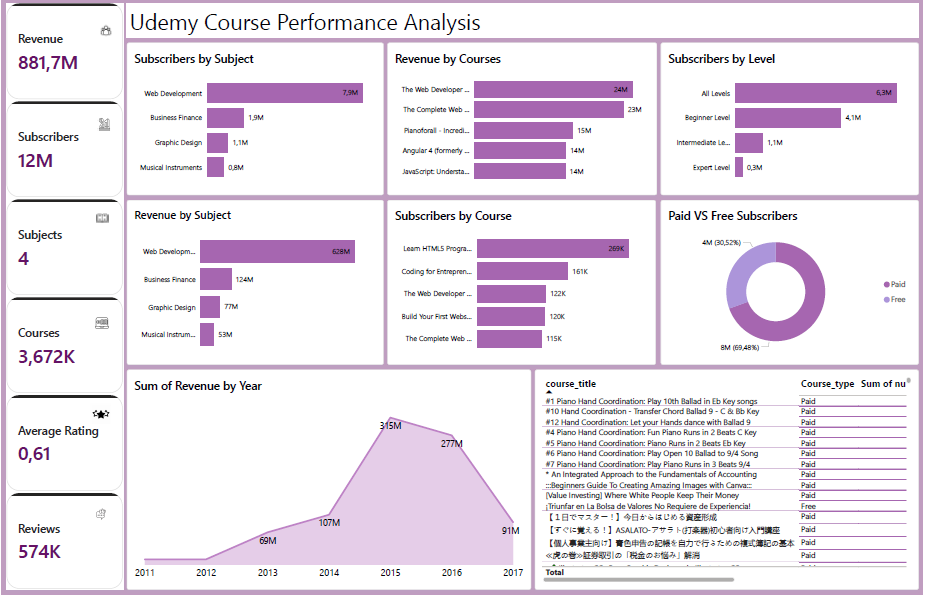

What the dashboard file says about the page in this screenshot:
{"tool":"powerbi","page":{"name":"Page 1","canvas":[1580,1020],"ordinal":0},"visuals":[{"type":"cardVisual","fields":{"Data":["Sum(Combined_Data.Revenue)","Sum(Combined_Data.num_subscribers)","Count(Combined_Data.subject)","CountNonNull(Combined_Data.course_id)","Avg(Combined_Data.Rating)","Sum(Combined_Data.num_reviews)"]},"box":[8.2,6.1,199.9,1005.7],"z":0},{"type":"clusteredBarChart","title":"Subscribers by Subject","fields":{"Category":["Combined_Data.subject"],"Y":["Sum(Combined_Data.num_subscribers)"]},"box":[214.2,73.4,440.6,261.1],"z":1000},{"type":"clusteredBarChart","title":"Subscribers by Course","fields":{"Category":["Combined_Data.course_title"],"Y":["Sum(Combined_Data.num_subscribers)"]},"box":[661,342.7,461,283.6],"z":2000},{"type":"barChart","title":" Revenue by Subject","fields":{"Category":["Combined_Data.subject"],"Y":["Sum(Combined_Data.Revenue)"]},"box":[214.2,342.7,440.6,283.6],"z":3000},{"type":"clusteredBarChart","title":"Revenue by Courses","fields":{"Category":["Combined_Data.course_title"],"Y":["Sum(Combined_Data.Revenue)"]},"box":[661,73.4,463.1,261.1],"z":4000},{"type":"clusteredBarChart","title":"Subscribers by Level","fields":{"Category":["Combined_Data.level"],"Y":["Sum(Combined_Data.num_subscribers)"]},"box":[1130.2,73.4,442.7,261.1],"z":5000},{"type":"donutChart","title":"Paid VS Free Subscribers","fields":{"Category":["Combined_Data.Course_type"],"Y":["Sum(Combined_Data.num_subscribers)"]},"box":[1130.2,342.7,442.7,283.6],"z":6000},{"type":"tableEx","fields":{"Values":["Combined_Data.course_title","Combined_Data.Course_type","Sum(Combined_Data.num_reviews)","Sum(Combined_Data.num_subscribers)","Avg(Combined_Data.Rating)","Sum(Combined_Data.Revenue)"]},"box":[913.9,634.4,658.9,377.4],"z":7000},{"type":"image","box":[145,687,49,45],"z":8000},{"type":"image","box":[149,537,43,36],"z":9000},{"type":"image","box":[149,359,45,30],"z":10000},{"type":"image","box":[159,29,39,45],"z":11000},{"type":"image","box":[159,194,33,37],"z":12000},{"type":"image","box":[145,863,49,38],"z":13000},{"type":"stackedAreaChart","fields":{"Category":["Combined_Data.Date.Variation.Date Hierarchy.Year"],"Y":["Sum(Combined_Data.Revenue)"]},"box":[214.2,634.4,693.6,378],"z":14000},{"type":"textbox","box":[214.2,6.1,1358.6,59.2],"z":15000}]}

Visuals, with their boxes in screenshot pixels (x1, y1, x2, y2), scaled from the page's 1580x1020 canvas onto the 925x595 screenshot:
cardVisual - Sum(Combined_Data.Revenue) x Sum(Combined_Data.num_subscribers): bbox=[5, 4, 122, 590]
"Subscribers by Subject" clusteredBarChart: bbox=[125, 43, 383, 195]
"Subscribers by Course" clusteredBarChart: bbox=[387, 200, 657, 365]
" Revenue by Subject" barChart: bbox=[125, 200, 383, 365]
"Revenue by Courses" clusteredBarChart: bbox=[387, 43, 658, 195]
"Subscribers by Level" clusteredBarChart: bbox=[662, 43, 921, 195]
"Paid VS Free Subscribers" donutChart: bbox=[662, 200, 921, 365]
tableEx - Combined_Data.course_title x Combined_Data.Course_type: bbox=[535, 370, 921, 590]
image: bbox=[85, 401, 114, 427]
image: bbox=[87, 313, 112, 334]
image: bbox=[87, 209, 114, 227]
image: bbox=[93, 17, 116, 43]
image: bbox=[93, 113, 112, 135]
image: bbox=[85, 503, 114, 526]
stackedAreaChart - Combined_Data.Date.Variation.Date Hierarchy.Year x Sum(Combined_Data.Revenue): bbox=[125, 370, 531, 591]
textbox: bbox=[125, 4, 921, 38]
